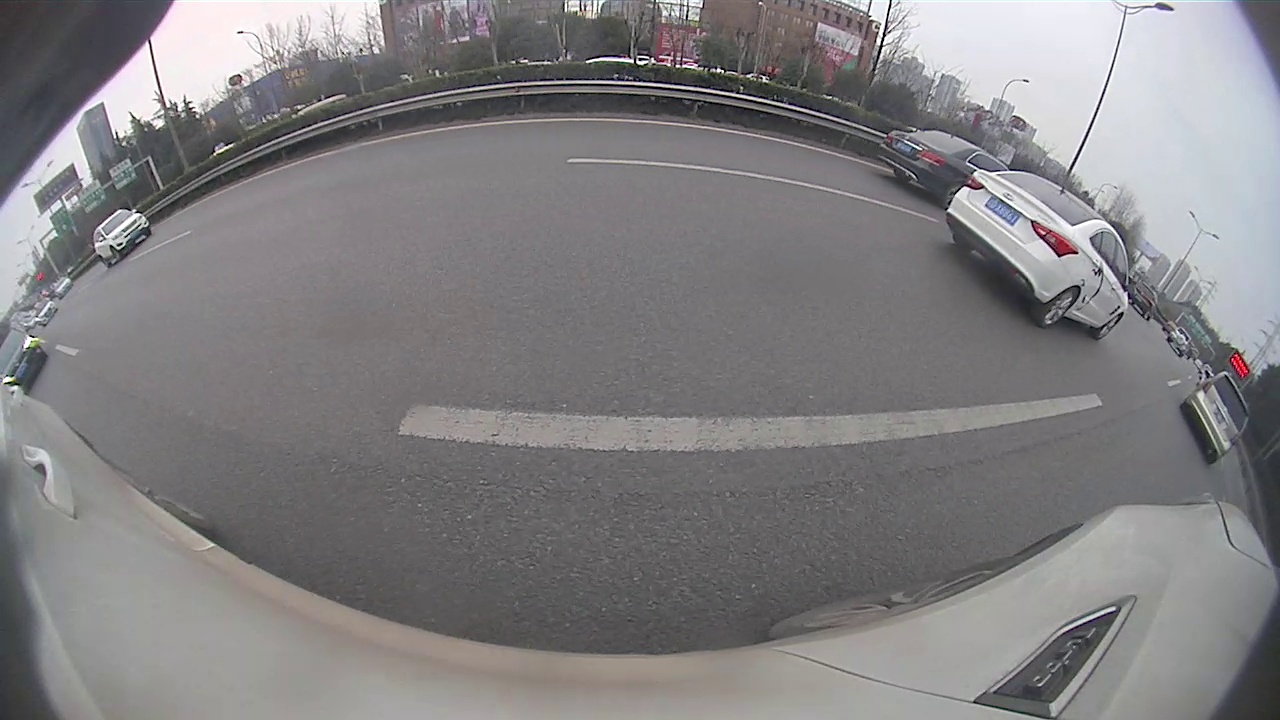car: (944, 167, 1132, 341), (1181, 370, 1253, 466), (89, 209, 153, 268), (1, 330, 49, 395), (1131, 282, 1159, 321), (1165, 326, 1193, 357)
front: (1087, 313, 1122, 341)
rear: (1028, 287, 1082, 329)
